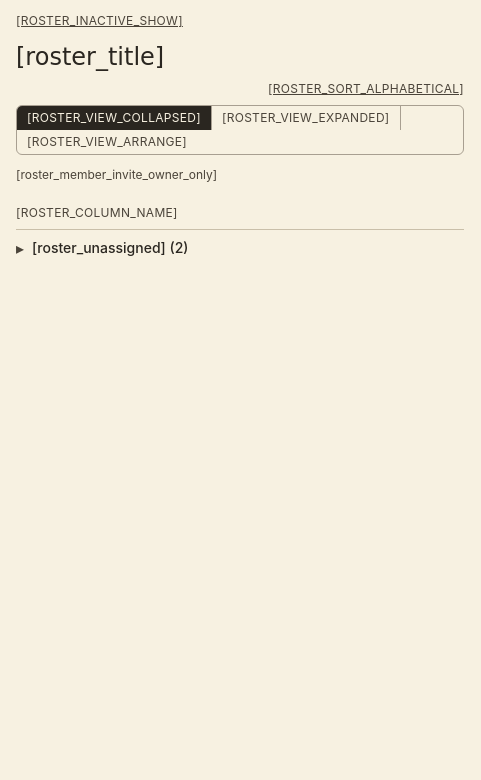
(1) DEFAULT-INERT — without the root toggle, marked fields render values NORMALLY (the constraint that keeps every existing PII-value spec green byte-unmodified › all five PII values render verbatim; <html> carries no toggle; no field matches the redaction selector
Click the button "▸ [roster_unassigned] (2)" at coordinates (110, 248), box [16,230,464,266]
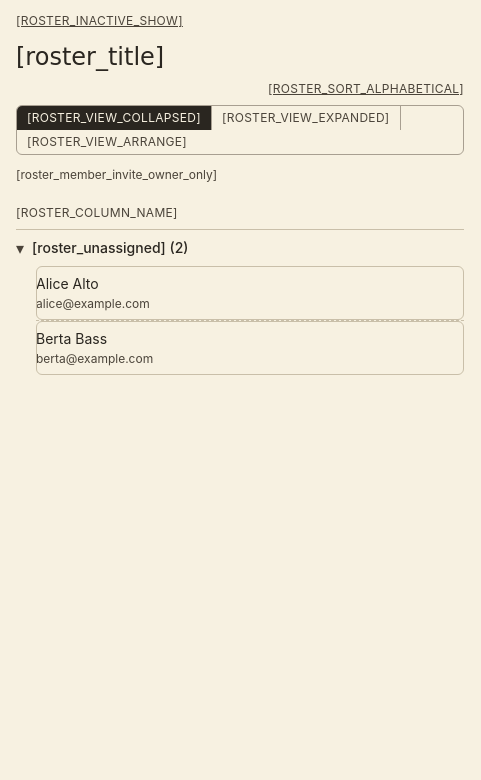
Click the button without text next to "berta@example.com" at coordinates (250, 348), box [36,321,464,375]
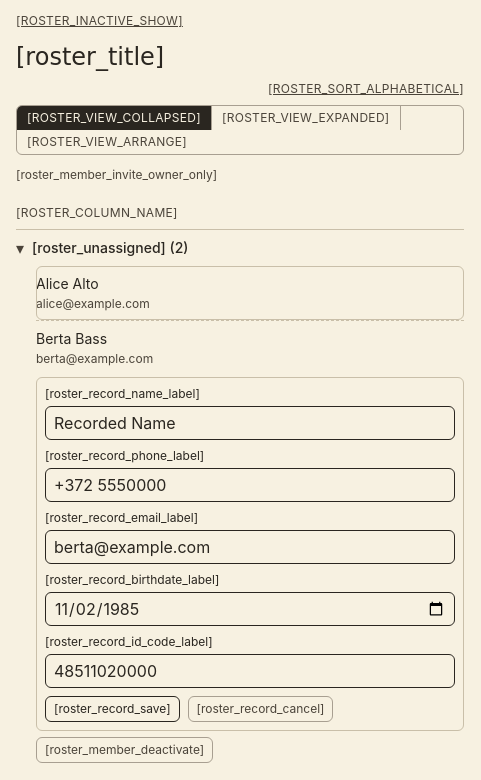
Result: the field with test id "roster-record-name" holds "Recorded Name" at [45,406,455,440]
